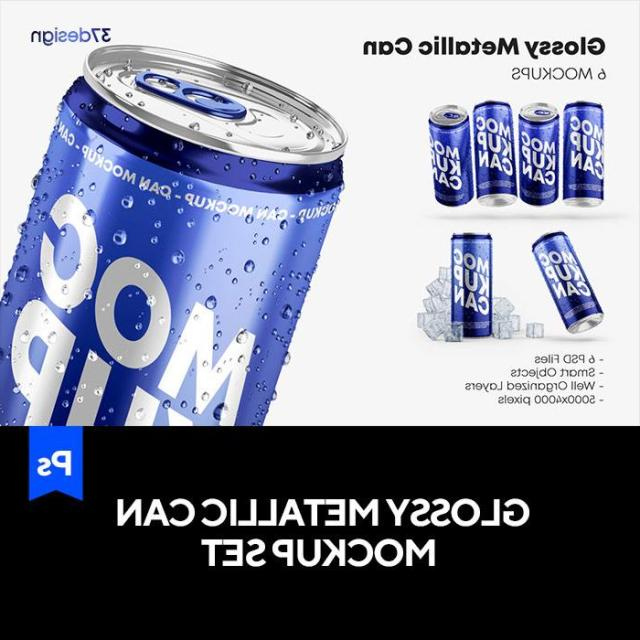metal: (0, 45, 348, 424), (532, 231, 604, 333), (472, 101, 518, 206), (429, 105, 474, 206), (562, 101, 604, 208), (451, 234, 492, 337), (519, 102, 559, 206)
